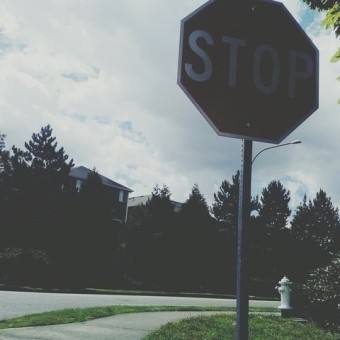SS: (181, 0, 319, 144)
